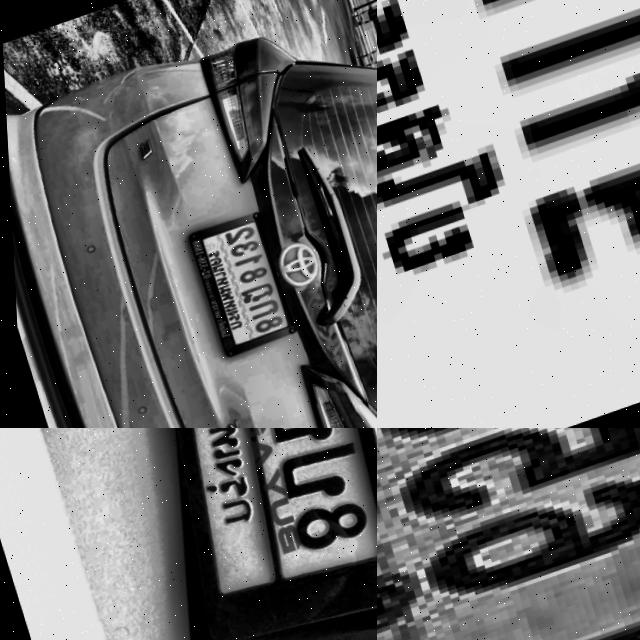license-plate: (377, 0, 640, 428), (92, 428, 377, 640), (377, 428, 640, 640), (176, 202, 306, 374)
